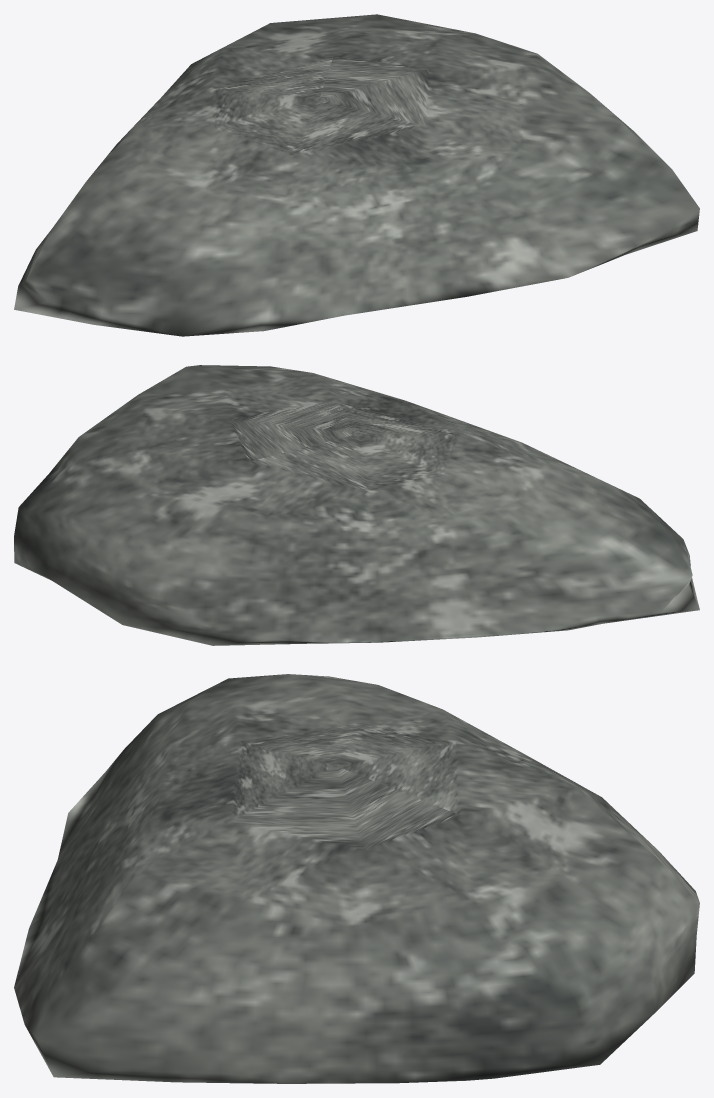
Rendered from rock_taiga_slab_a.glb.
The picture shows the model from 3 angles, top to bottom: view 1: azimuth 30°, elevation 25°; view 2: azimuth 150°, elevation 25°; view 3: azimuth 270°, elevation 25°; orthographic projection. The views are drawn at different scales.
Parts seen in each view (by area): view 1: rock_taiga_slab_a; view 2: rock_taiga_slab_a; view 3: rock_taiga_slab_a.
Boxes of the visible parts, box(x1,y1,x2,y2) form: rock_taiga_slab_a: box(14, 14, 699, 336); rock_taiga_slab_a: box(14, 365, 699, 645); rock_taiga_slab_a: box(14, 674, 699, 1083).
Bounding box in the file's own units: 2.78 × 0.5062 × 2.15.
1 material, 1 textured.
